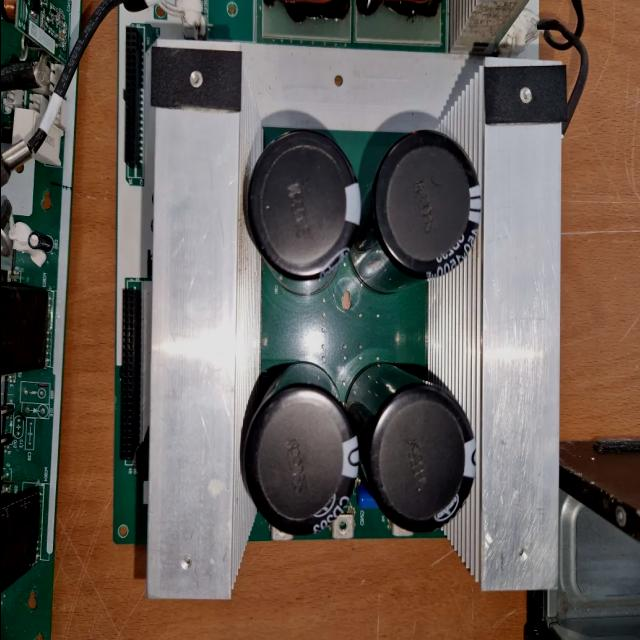A: (358, 1, 446, 20), (262, 0, 353, 18)
C: (352, 366, 477, 534), (354, 134, 478, 292), (244, 366, 353, 532), (246, 128, 356, 284)
